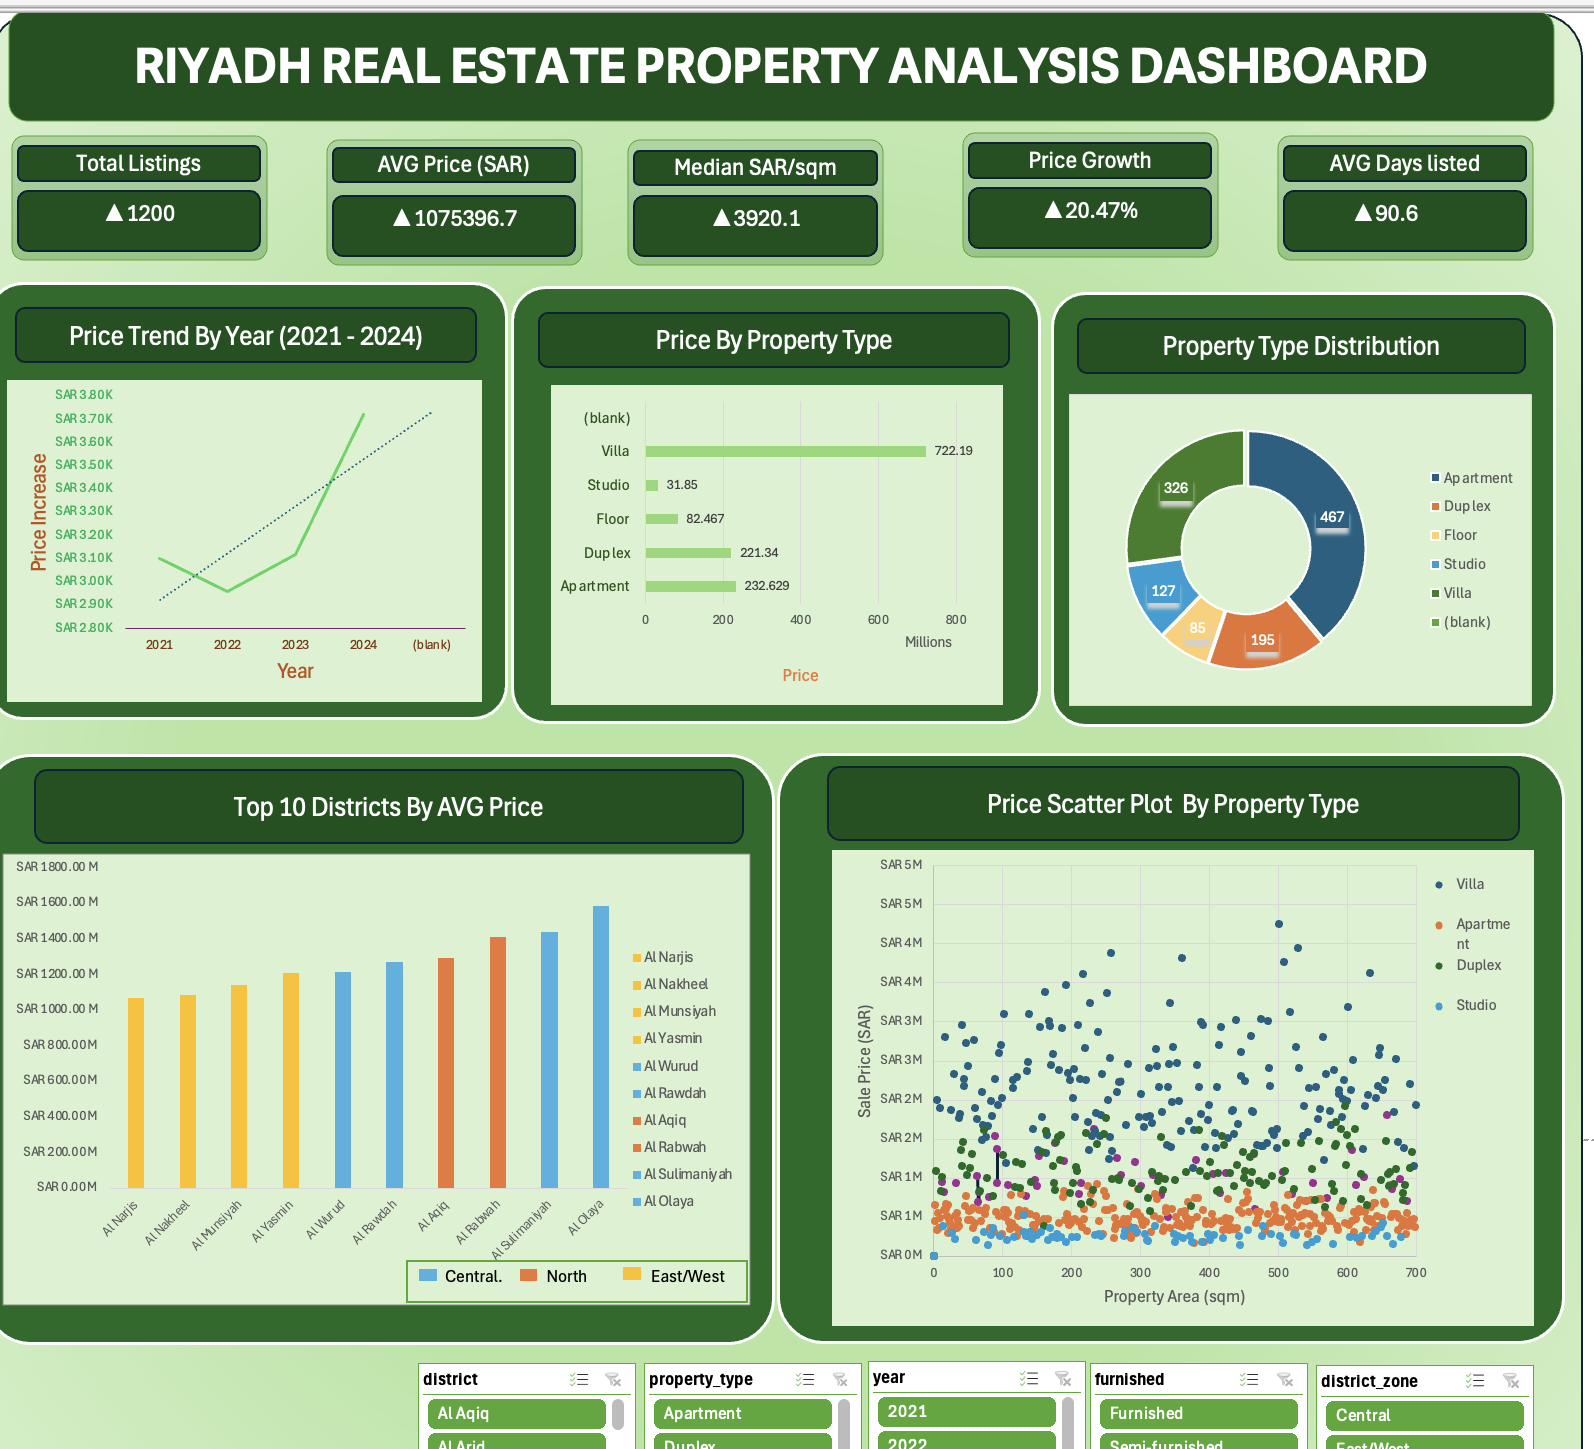

The dashboard page shown, as its layout file describes it:
{"tool":"powerbi","page":{"name":"Page 1","canvas":[1300,900],"ordinal":0},"visuals":[{"type":"card","fields":{"Values":["riyadh_realestate_dataset.Total Listings"]},"box":[14.5,61.9,164.7,98.8],"z":0},{"type":"card","fields":{"Values":["riyadh_realestate_dataset.Avg Price"]},"box":[183.3,61.9,156.4,97.4],"z":1000},{"type":"card","fields":{"Values":["riyadh_realestate_dataset.Median SAR sqm"]},"box":[343.5,65.9,171,93],"z":2000},{"type":"card","fields":{"Values":["riyadh_realestate_dataset.Price Growth %"]},"box":[742.5,66.9,362,126],"z":3000},{"type":"card","fields":{"Values":["riyadh_realestate_dataset.Avg Days Listed"]},"box":[528.5,66.9,207,98],"z":4000},{"type":"lineChart","fields":{"Category":["riyadh_realestate_dataset.year"],"Y":["riyadh_realestate_dataset.Total Listings"]},"box":[15,168,164.7,74.1],"z":5000},{"type":"lineChart","fields":{"Category":["riyadh_realestate_dataset.year"],"Y":["riyadh_realestate_dataset.Avg Price"]},"box":[185.5,167.9,158,74],"z":6000},{"type":"lineChart","fields":{"Category":["riyadh_realestate_dataset.year"],"Y":["riyadh_realestate_dataset.Median SAR sqm"]},"box":[348.5,166.9,166,74],"z":7000},{"type":"lineChart","fields":{"Category":["riyadh_realestate_dataset.year"],"Y":["riyadh_realestate_dataset.Avg Days Listed"]},"box":[523.5,171.9,177,69],"z":8000},{"type":"lineChart","title":"Price Trend By Year (2021 - 2024)","fields":{"Category":["riyadh_realestate_dataset.year"],"Y":["riyadh_realestate_dataset.Avg Price"]},"box":[15,251,329,310],"z":9000},{"type":"barChart","title":"Price by Property_Type","fields":{"Category":["riyadh_realestate_dataset.property_type"],"Y":["riyadh_realestate_dataset.Avg Price"]},"box":[351,251,357,310],"z":10000},{"type":"treemap","title":"Price By District","fields":{"Group":["riyadh_realestate_dataset.district"],"Values":["riyadh_realestate_dataset.Avg Price"]},"box":[706.7,203.3,421.7,356.7],"z":11000},{"type":"donutChart","title":"Listings by Property Type","fields":{"Category":["riyadh_realestate_dataset.property_type"],"Y":["riyadh_realestate_dataset.Total Listings"]},"box":[863.7,564.2,410.3,288.2],"z":12000},{"type":"clusteredColumnChart","title":"Price By District Zone and furnished","fields":{"Category":["riyadh_realestate_dataset.district_zone"],"Y":["riyadh_realestate_dataset.Avg Price"],"Series":["riyadh_realestate_dataset.furnished"]},"box":[11.6,564.2,459.7,288.2],"z":13000},{"type":"scatterChart","title":"Property Type and Area Comparison","fields":{"X":["Sum(riyadh_realestate_dataset.area_sqm)"],"Y":["Sum(riyadh_realestate_dataset.price_sar)"],"Series":["riyadh_realestate_dataset.property_type"],"Category":["riyadh_realestate_dataset.property_type"],"Size":["CountNonNull(riyadh_realestate_dataset.listing_id)"]},"box":[479.5,563.8,376,288.2],"z":14000},{"type":"advancedSlicerVisual","title":"Furnished","fields":{"Values":["riyadh_realestate_dataset.furnished"]},"box":[1133,420,147,140],"z":15000},{"type":"advancedSlicerVisual","title":"District Zone","fields":{"Values":["riyadh_realestate_dataset.district_zone"]},"box":[1135,138,145,124],"z":16000},{"type":"advancedSlicerVisual","title":"Property Type","fields":{"Values":["riyadh_realestate_dataset.property_type"]},"box":[1135,272,145,141],"z":17000},{"type":"advancedSlicerVisual","title":"Year","fields":{"Values":["riyadh_realestate_dataset.year"]},"box":[1135.5,12.7,145,130],"z":18000},{"type":"textbox","box":[11.7,3.3,1116.7,63.3],"z":18001}]}

Visuals, with their boxes on the page's 1300x900 design canvas (x1, y1, x2, y2). These are canvas units, not pixel positions in the 1594x1449 screenshot, which may show the page scaled, cropped or inside an application window:
card - riyadh_realestate_dataset.Total Listings: left=14, top=62, right=179, bottom=161
card - riyadh_realestate_dataset.Avg Price: left=183, top=62, right=340, bottom=159
card - riyadh_realestate_dataset.Median SAR sqm: left=344, top=66, right=514, bottom=159
card - riyadh_realestate_dataset.Price Growth %: left=742, top=67, right=1104, bottom=193
card - riyadh_realestate_dataset.Avg Days Listed: left=528, top=67, right=736, bottom=165
lineChart - riyadh_realestate_dataset.year x riyadh_realestate_dataset.Total Listings: left=15, top=168, right=180, bottom=242
lineChart - riyadh_realestate_dataset.year x riyadh_realestate_dataset.Avg Price: left=186, top=168, right=344, bottom=242
lineChart - riyadh_realestate_dataset.year x riyadh_realestate_dataset.Median SAR sqm: left=348, top=167, right=514, bottom=241
lineChart - riyadh_realestate_dataset.year x riyadh_realestate_dataset.Avg Days Listed: left=524, top=172, right=700, bottom=241
"Price Trend By Year (2021 - 2024)" lineChart: left=15, top=251, right=344, bottom=561
"Price by Property_Type" barChart: left=351, top=251, right=708, bottom=561
"Price By District" treemap: left=707, top=203, right=1128, bottom=560
"Listings by Property Type" donutChart: left=864, top=564, right=1274, bottom=852
"Price By District Zone and furnished" clusteredColumnChart: left=12, top=564, right=471, bottom=852
"Property Type and Area Comparison" scatterChart: left=480, top=564, right=856, bottom=852
"Furnished" advancedSlicerVisual: left=1133, top=420, right=1280, bottom=560
"District Zone" advancedSlicerVisual: left=1135, top=138, right=1280, bottom=262
"Property Type" advancedSlicerVisual: left=1135, top=272, right=1280, bottom=413
"Year" advancedSlicerVisual: left=1136, top=13, right=1280, bottom=143
textbox: left=12, top=3, right=1128, bottom=67
